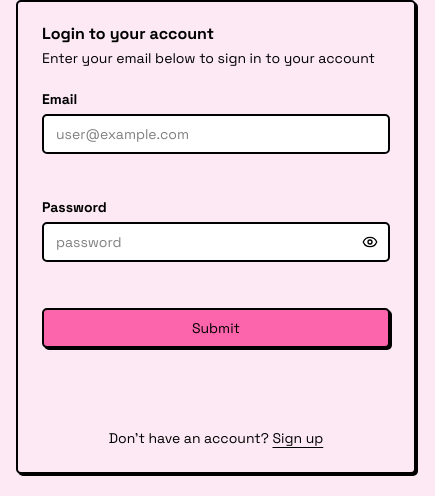
Test: SignInForm › should show validation errors for empty fields
What coordinates should you click on to do the following:
click the button "Submit"
I would click on:
 (216, 328)
Its box is 42,308 -> 390,348.
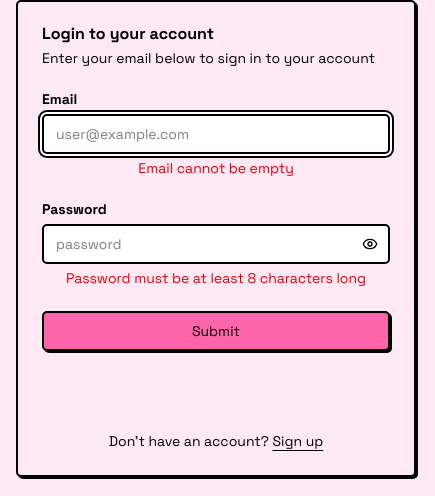
Result: the text "Email cannot be empty" is shown at 138,160 -> 294,178
